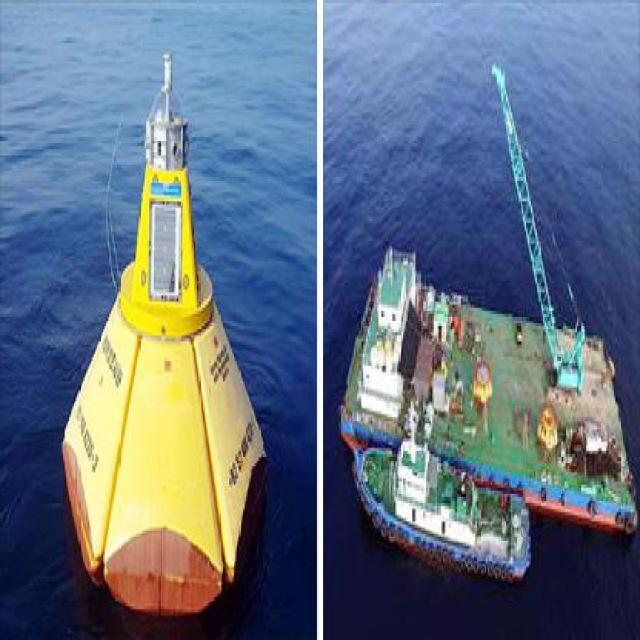buoy: (50, 22, 284, 617)
